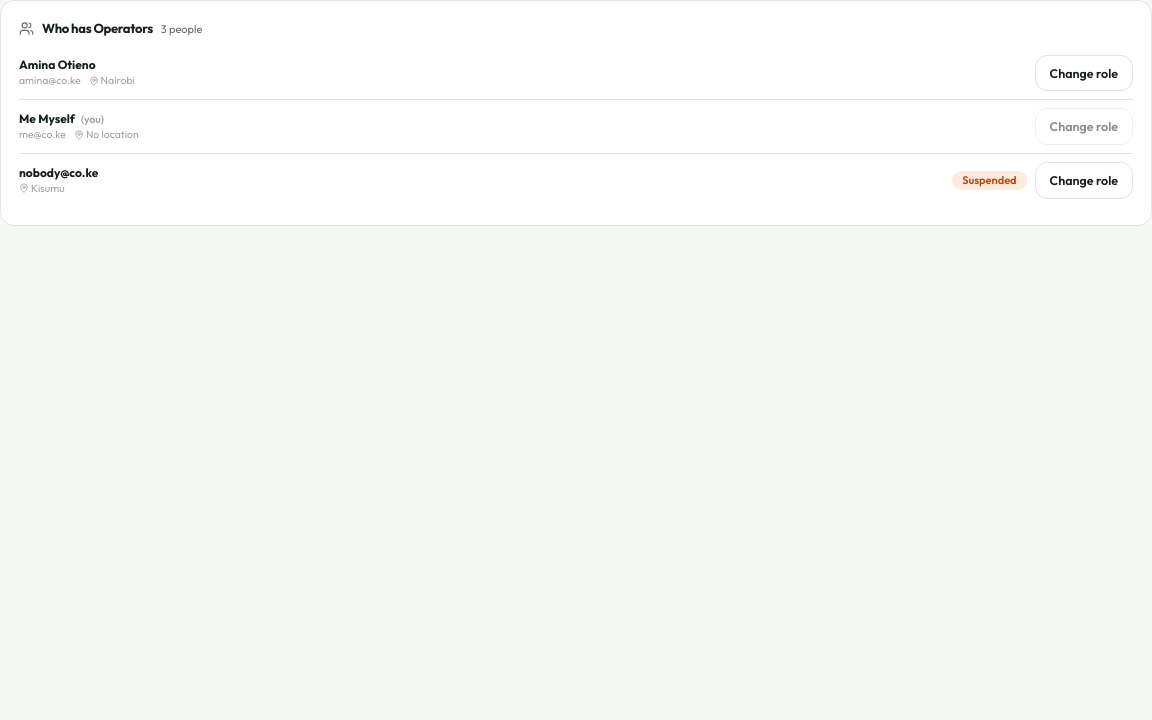
Test: RoleHolders › changes a role through assign_company_role, offering only active roles other than this one
Expected: the list named "People with Operators" is shown, top-left (19, 46), bottom-right (1133, 207)
Click the button with aria-label "Change role for Amina Otieno" at (1084, 73), box top-left (1035, 54), bottom-right (1133, 91)
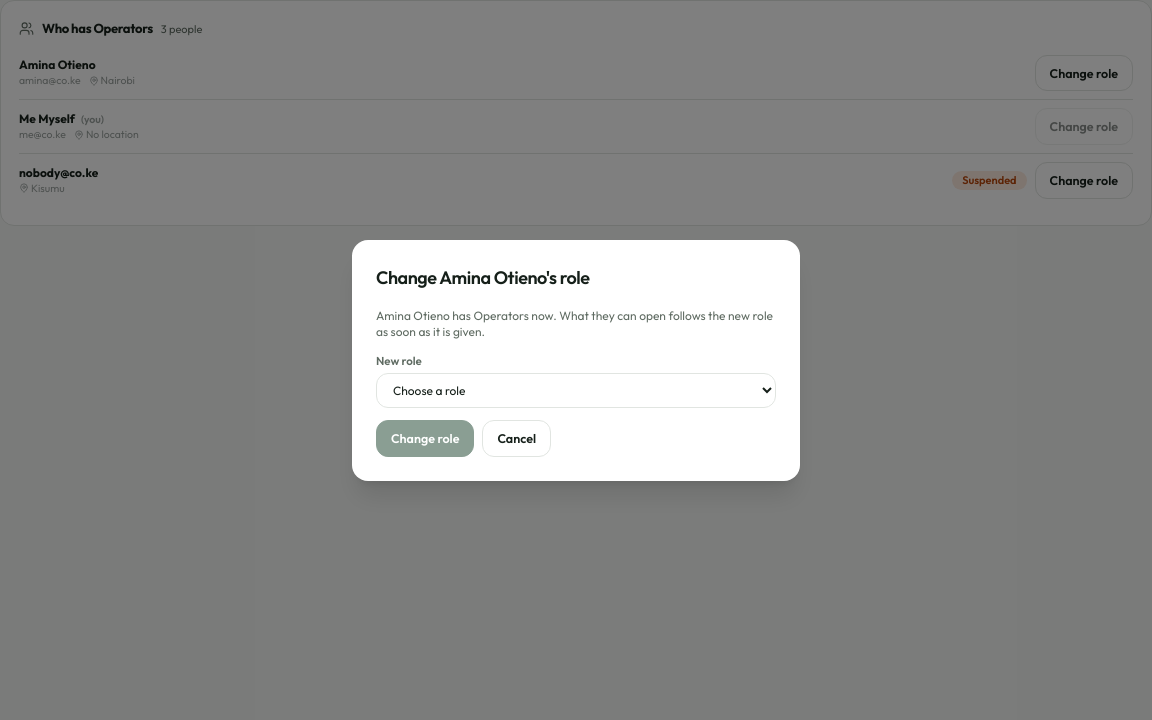
Expected: the button "Change role" is disabled, top-left (376, 420), bottom-right (474, 457)
Select "Human Resources" in the dropdown labelled "New role" at (576, 390), box top-left (376, 373), bottom-right (776, 408)
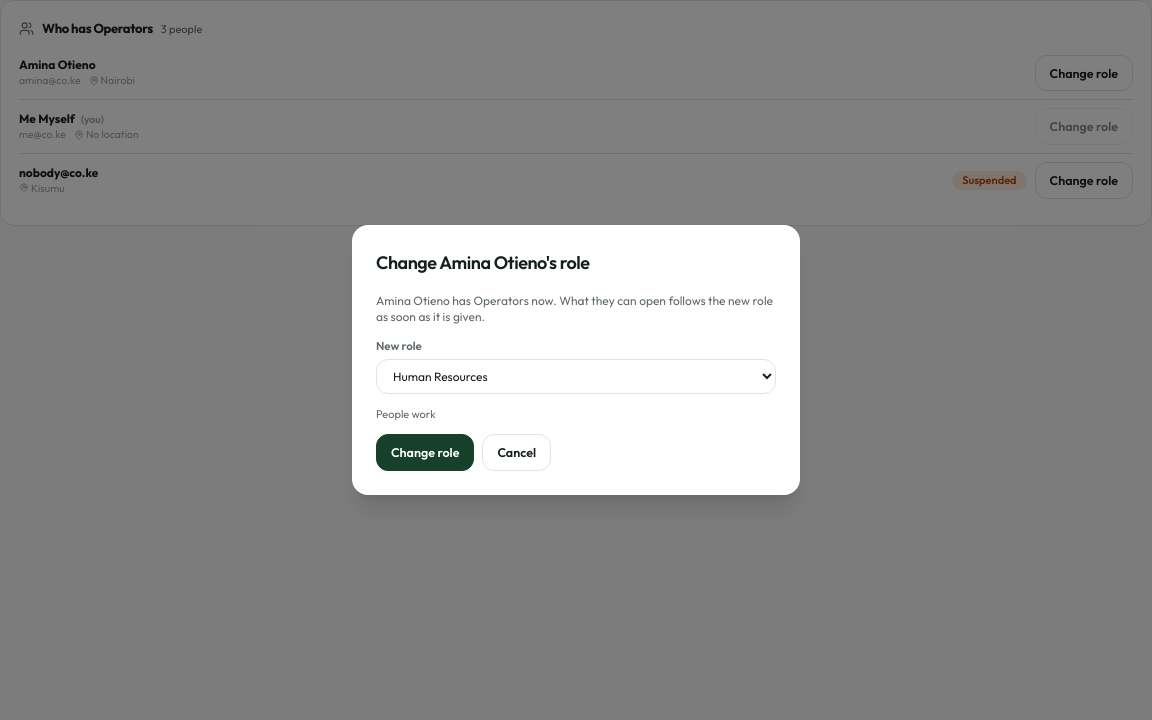
Expected: the text "People work" is shown, top-left (376, 406), bottom-right (436, 420)
Click the button "Change role" at (425, 452), box top-left (376, 434), bottom-right (474, 471)
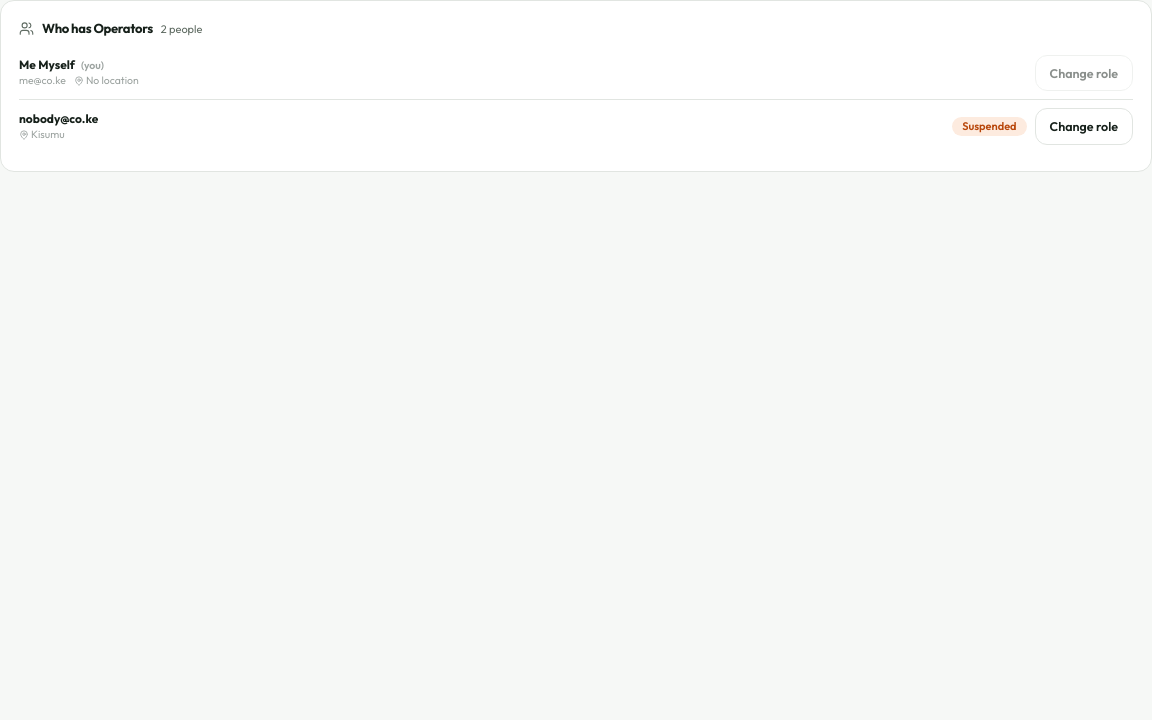
Expected: the number of list items is 2, top-left (19, 46), bottom-right (1133, 99); top-left (19, 99), bottom-right (1133, 153)
